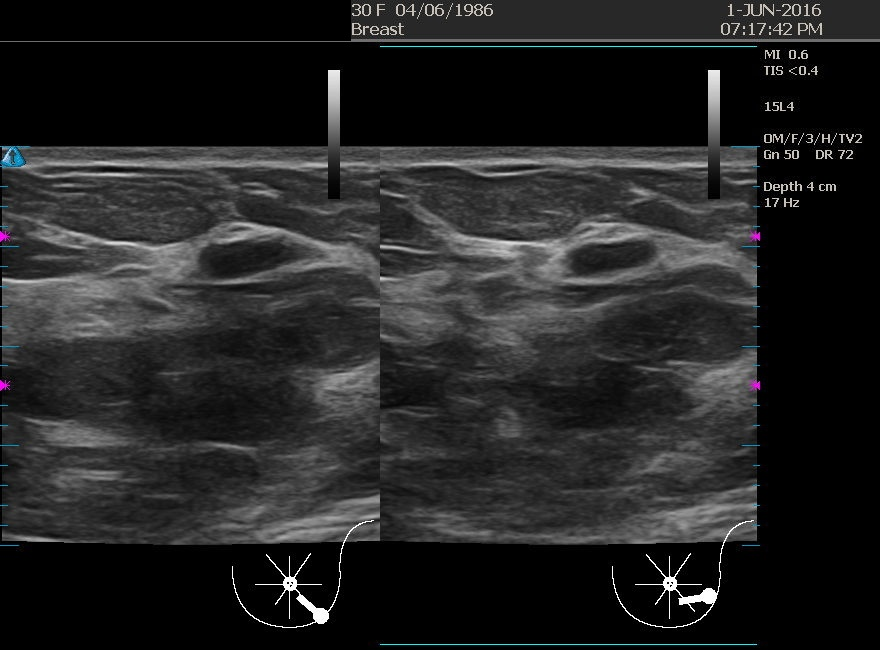BIRADS_2: (123, 176, 323, 376), (490, 173, 690, 373)
